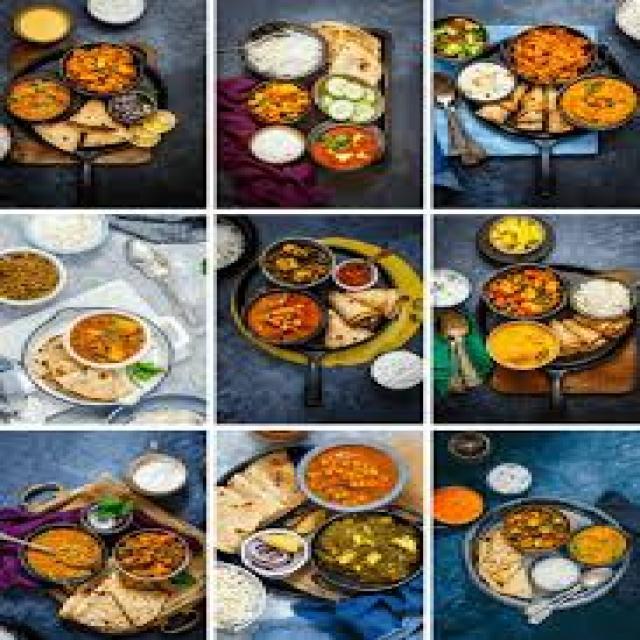curd: (81, 1, 152, 29)
dal: (551, 71, 640, 129), (477, 319, 562, 369), (560, 523, 637, 567), (6, 2, 79, 43)
papad: (60, 578, 179, 633), (315, 30, 382, 78)
raita: (454, 61, 511, 101), (369, 349, 421, 390), (83, 1, 150, 27), (434, 267, 473, 307), (610, 1, 640, 44)
rice: (205, 564, 269, 632), (241, 27, 324, 79), (470, 531, 526, 588), (569, 278, 630, 319)
roti: (214, 458, 294, 548), (44, 317, 156, 376), (60, 579, 174, 634), (490, 72, 582, 136), (25, 334, 109, 403), (324, 291, 417, 349), (508, 27, 599, 86), (578, 331, 635, 395), (468, 533, 527, 593), (548, 316, 616, 362)
sweet: (4, 250, 62, 298)
veg-fry: (296, 446, 405, 504), (502, 23, 605, 84), (55, 313, 161, 365), (240, 286, 324, 343), (23, 526, 102, 583), (110, 530, 196, 576), (494, 506, 576, 553), (430, 14, 495, 63), (2, 76, 71, 121), (562, 526, 632, 565)
